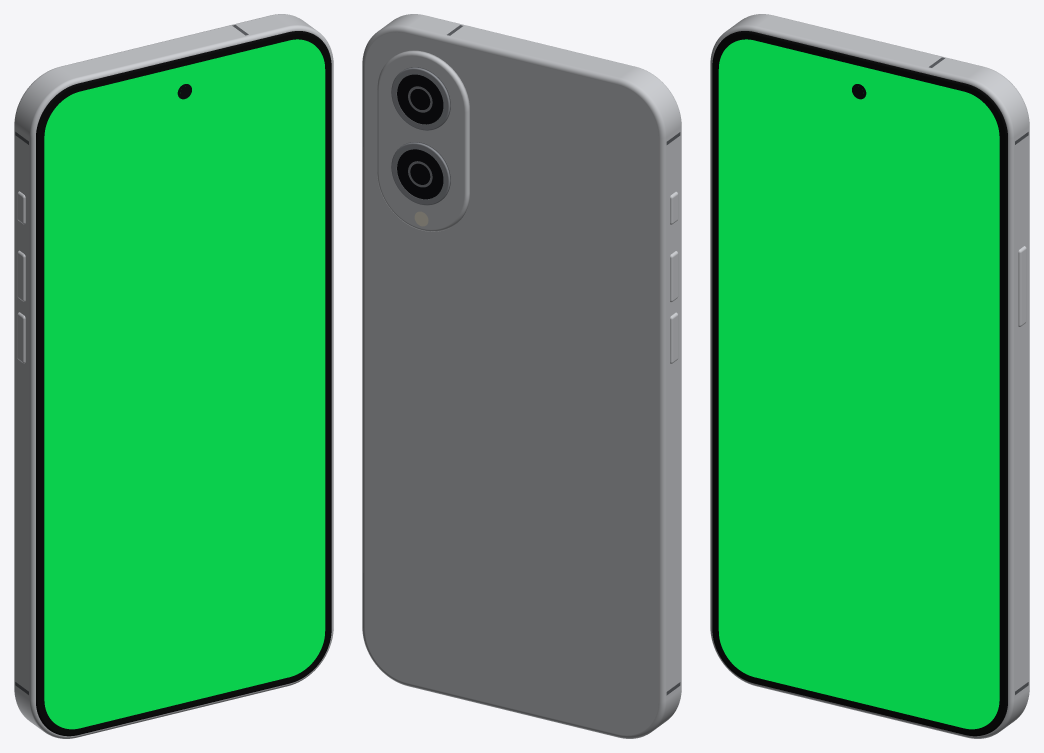
File: phone-6.glb
3 views of the same model, side by side, from view 1: azimuth 30°, elevation 25°; view 2: azimuth 150°, elevation 25°; view 3: azimuth 330°, elevation 25° (orthographic).
Visible parts, largest first — view 1: Screen, Frame, Bezel, GlassEdge, Buttons; view 2: Back, Frame, CameraIsland, Lens (×2), LensRing (×2), Buttons; view 3: Screen, Frame, Bezel, GlassEdge, Buttons.
Part boxes in pixels (x1=…): Screen: x1=44, y1=39, x2=325, y2=729; Frame: x1=14, y1=14, x2=333, y2=738; Bezel: x1=39, y1=33, x2=330, y2=734; GlassEdge: x1=36, y1=31, x2=331, y2=736; Buttons: x1=17, y1=191, x2=25, y2=363; Back: x1=365, y1=32, x2=658, y2=735; Frame: x1=362, y1=14, x2=681, y2=738; CameraIsland: x1=377, y1=50, x2=469, y2=231; Lens (×2): x1=397, y1=74, x2=443, y2=199; LensRing (×2): x1=391, y1=67, x2=450, y2=205; Buttons: x1=670, y1=191, x2=678, y2=363; Screen: x1=718, y1=39, x2=999, y2=729; Frame: x1=710, y1=14, x2=1029, y2=738; Bezel: x1=713, y1=33, x2=1004, y2=734; GlassEdge: x1=712, y1=31, x2=1007, y2=736; Buttons: x1=1018, y1=246, x2=1026, y2=326.
Bounding box in the file's own units: 0.0706 × 0.1447 × 0.01.
